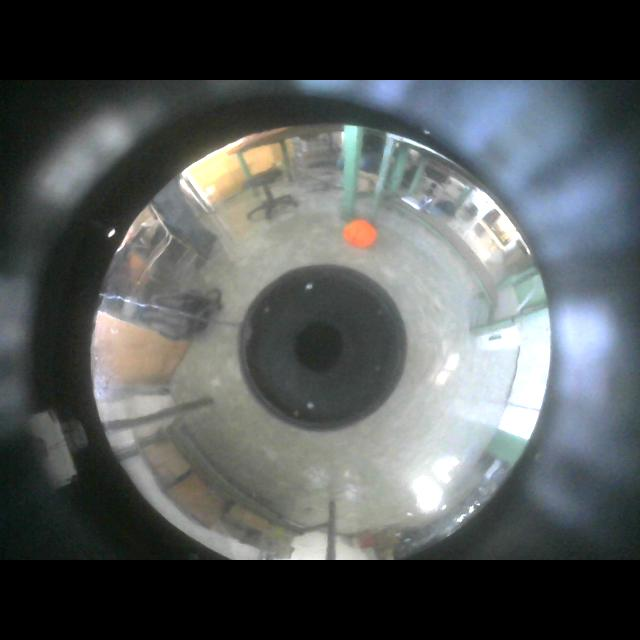bola: (342, 220, 377, 247)
